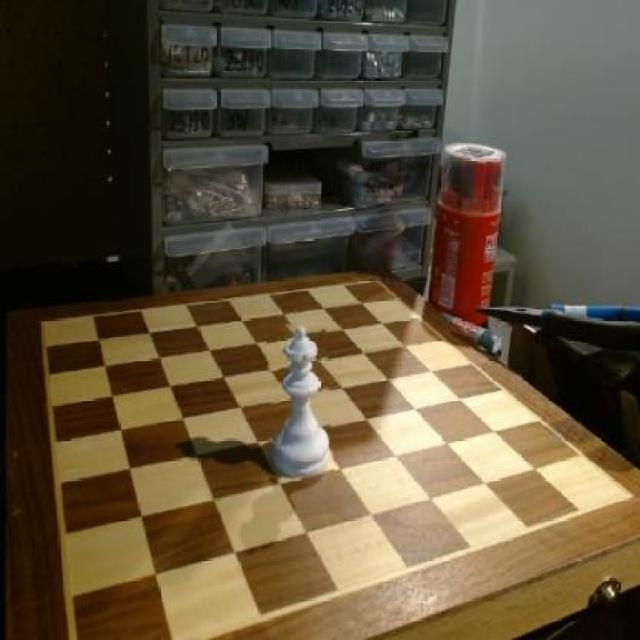white-pawn: (269, 322, 333, 480)
